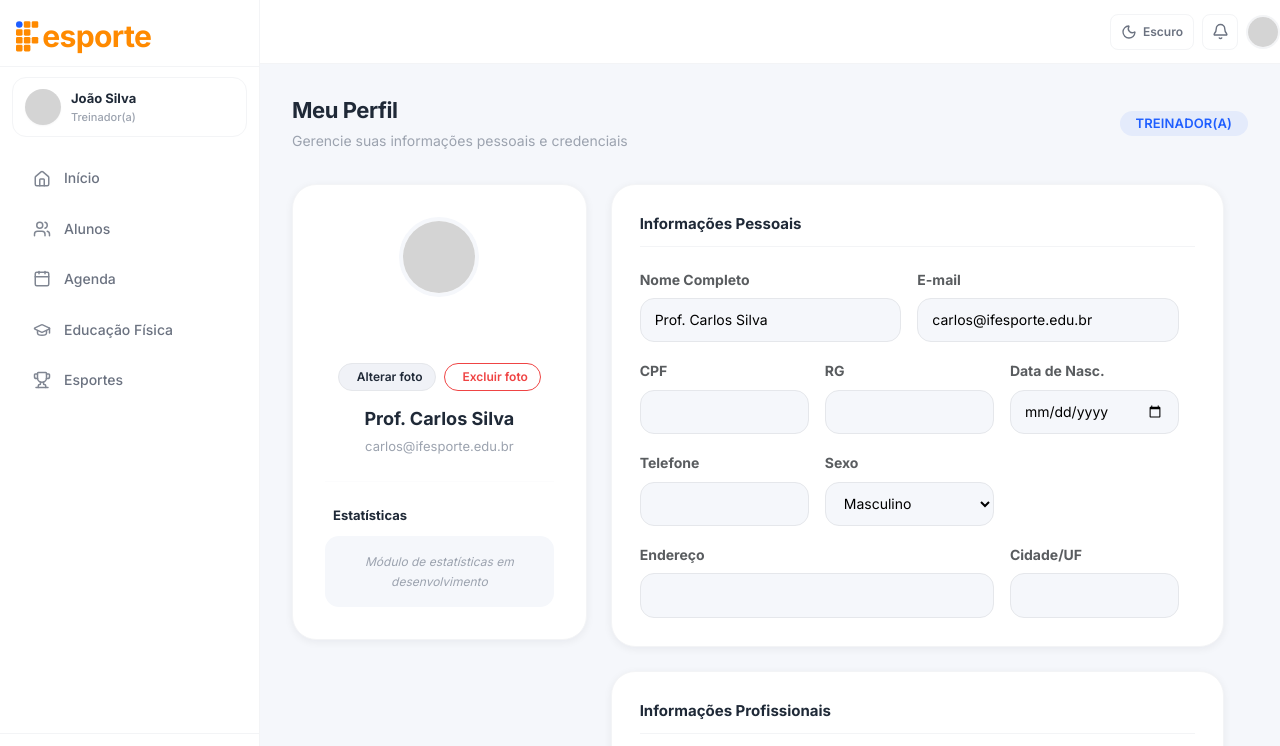
Test case: 2. Opção de Excluir Foto de Perfil no Frontend (Perfil.js) › IFEsporte/Profile.js: Mantém apenas os dois botões abaixo da foto sem ícones sobrepostos
Expected: the heading "Prof. Carlos Silva" is shown, [364, 408, 514, 432]
Expected: the number of file fields "Alterar foto" is 1, [338, 363, 436, 392]
Click the button "Excluir foto" at (492, 377), box [444, 363, 541, 392]
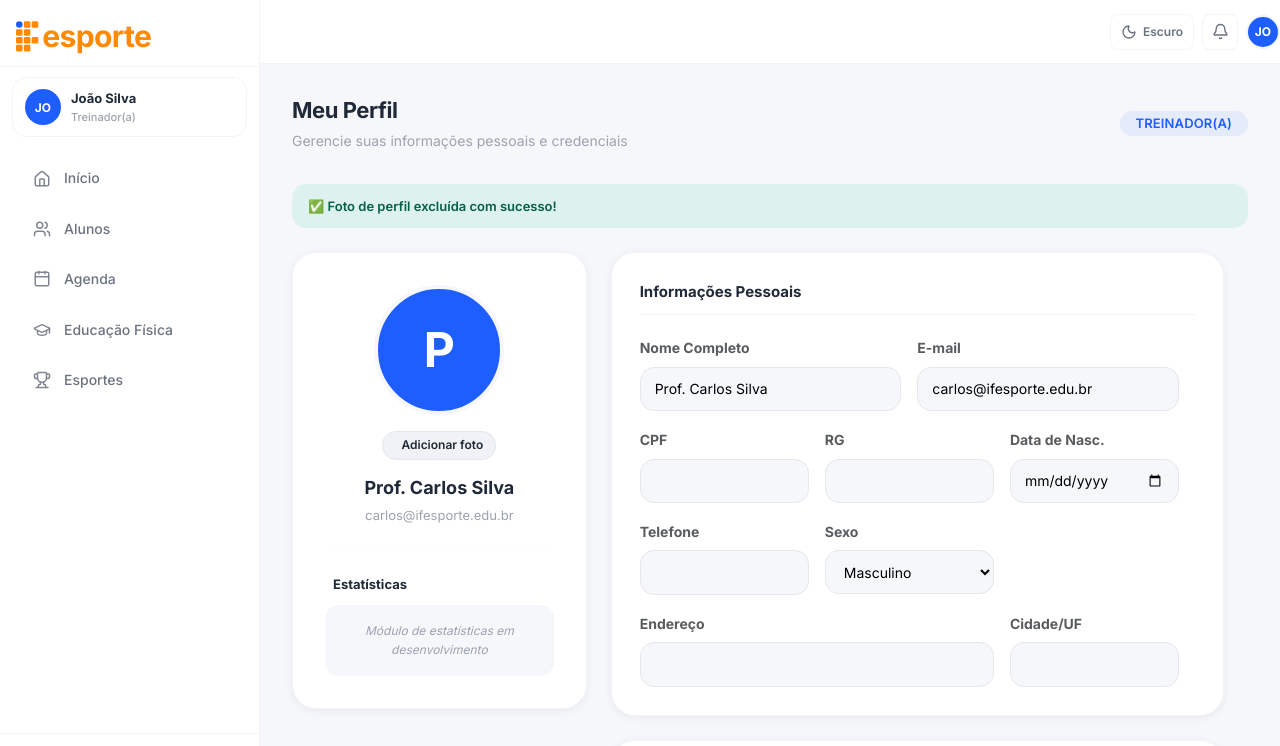
Expected: the number of file fields "Adicionar foto" is 1, [382, 432, 496, 460]
Expected: the text "✅ Foto de perfil excluída com sucesso!" is shown, [292, 184, 1248, 228]
Expected: the button "Excluir foto" is gone
